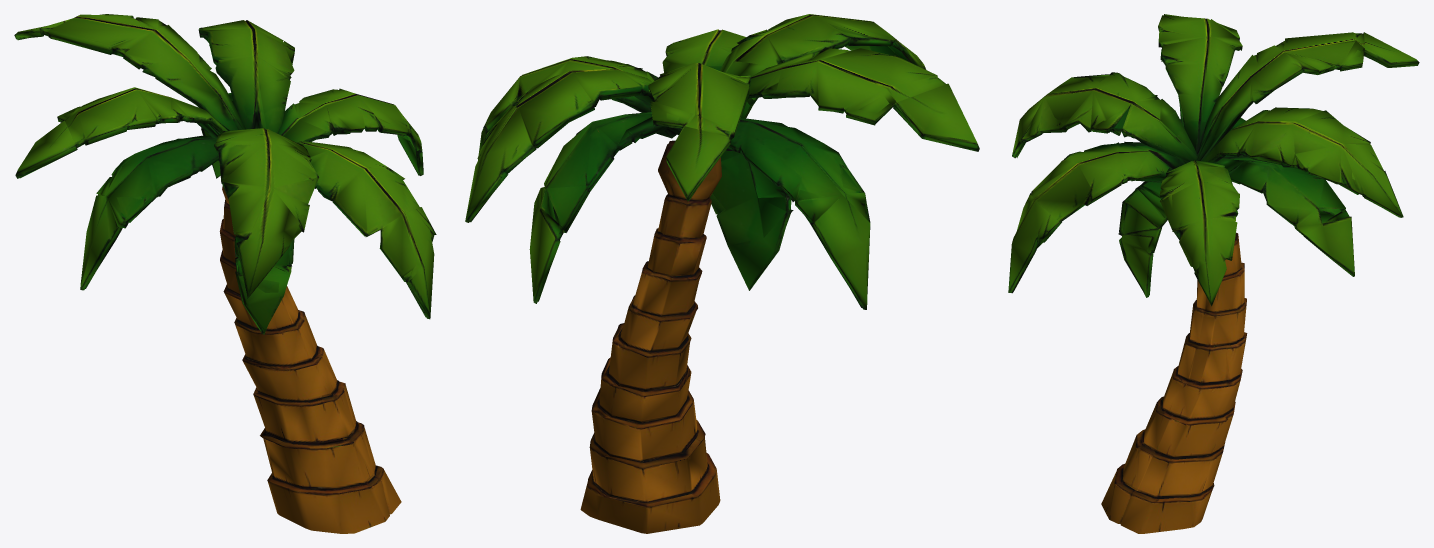
File: palm.glb
3 views of the same model, side by side, from view 1: azimuth 30°, elevation 25°; view 2: azimuth 150°, elevation 25°; view 3: azimuth 270°, elevation 25° (orthographic). The views are drawn at different scales.
Parts seen in each view (by area): view 1: tripo_node_22b18b60-6d21-4667-bdd1-39626a265566; view 2: tripo_node_22b18b60-6d21-4667-bdd1-39626a265566; view 3: tripo_node_22b18b60-6d21-4667-bdd1-39626a265566.
Boxes of the visible parts, <box> form: tripo_node_22b18b60-6d21-4667-bdd1-39626a265566: <box>14,14,436,533</box>; tripo_node_22b18b60-6d21-4667-bdd1-39626a265566: <box>465,14,979,533</box>; tripo_node_22b18b60-6d21-4667-bdd1-39626a265566: <box>1008,14,1419,533</box>.
Size of the model in its own units: 5.3 by 5.49 by 5.
1 material, 1 textured.
